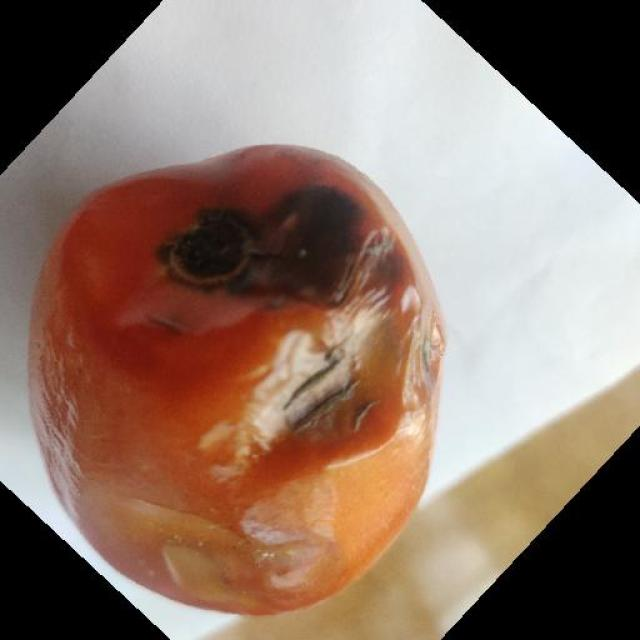Stale_tomato: (53, 153, 413, 609)
